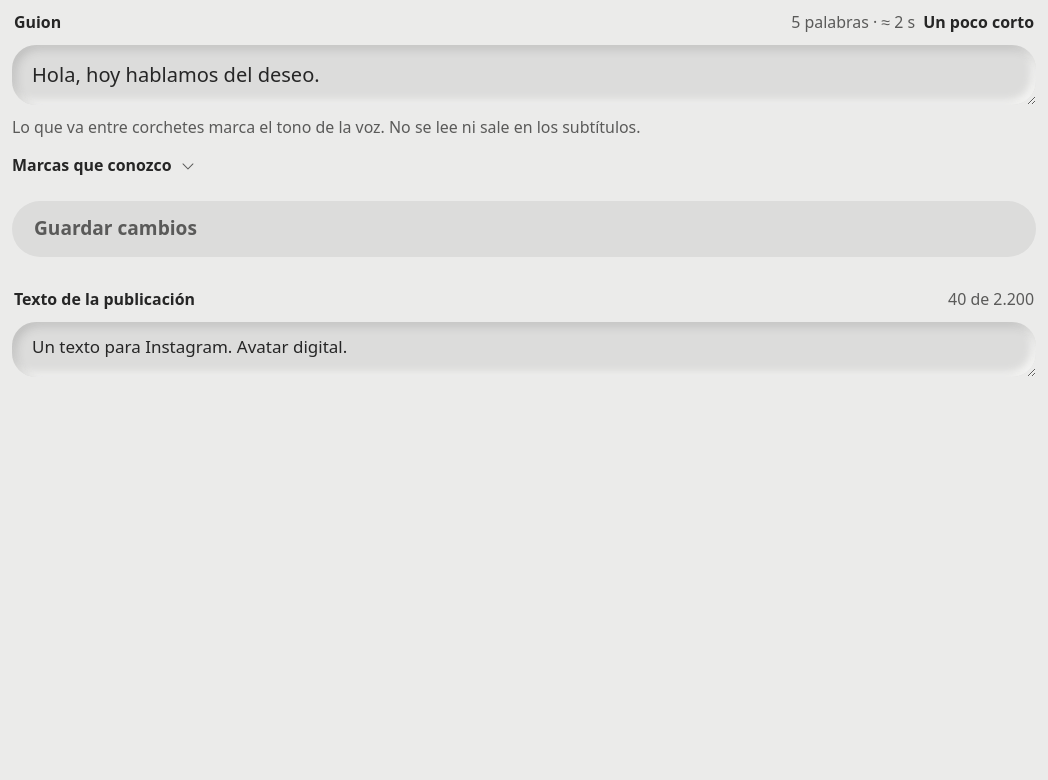
Test case: EditorDeGuion › shows the blocking findings when the review refuses the edit
This screenshot has width=1048, height=780.
Replace the text in the text box labelled "Texto de la publicación" with "Sin aviso." at x=524, y=349, box x1=12 y1=322 x2=1036 y2=377
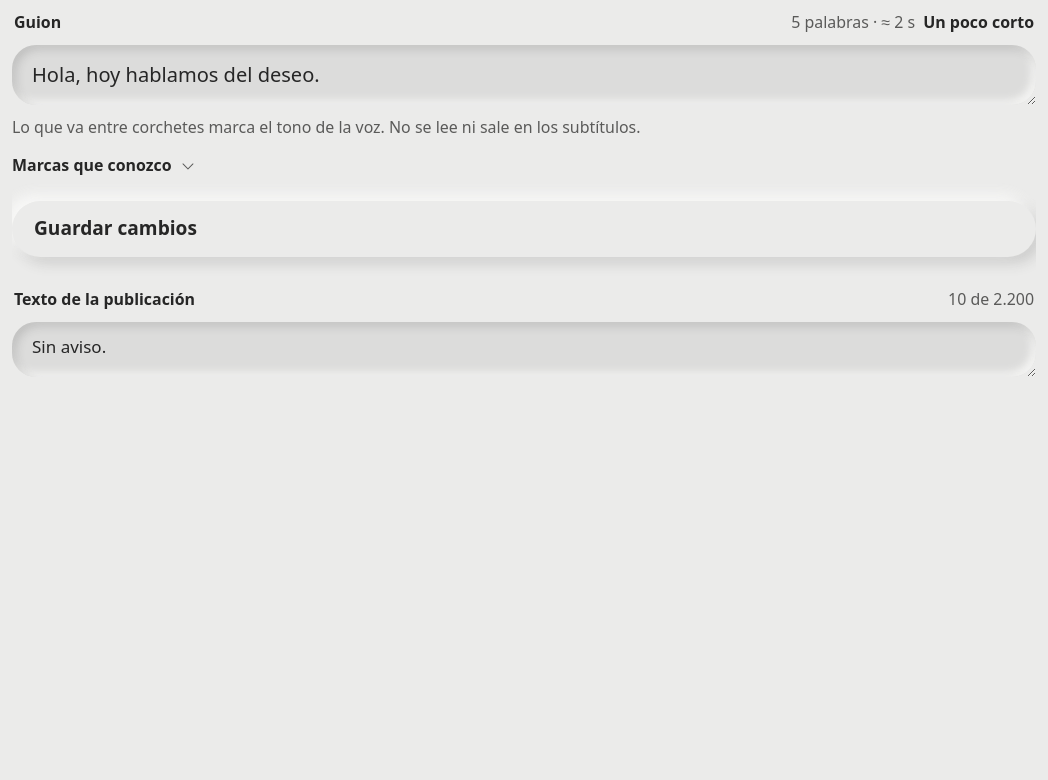
Click the button "Guardar cambios" at x=115, y=228, box x1=12 y1=201 x2=1036 y2=257
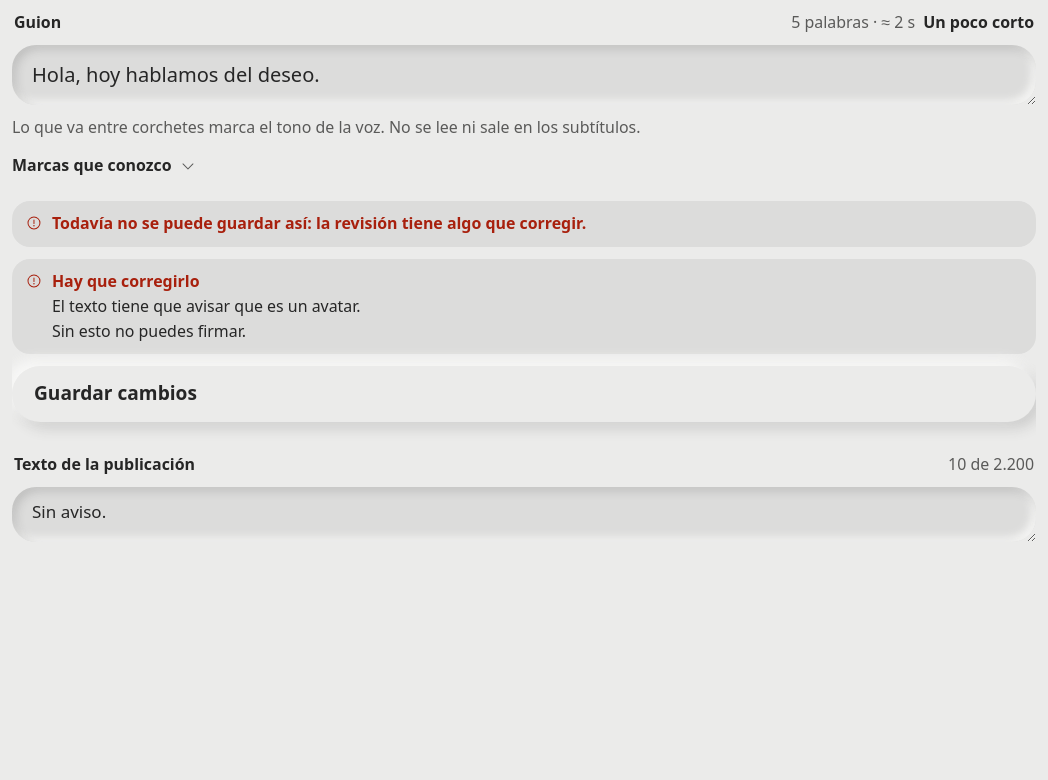
Expected: the text "El texto tiene que avisar que es un avatar." is shown, x1=52 y1=295 x2=361 y2=317
Expected: the message shows "la revisión tiene algo que corregir", x1=52 y1=212 x2=586 y2=234
